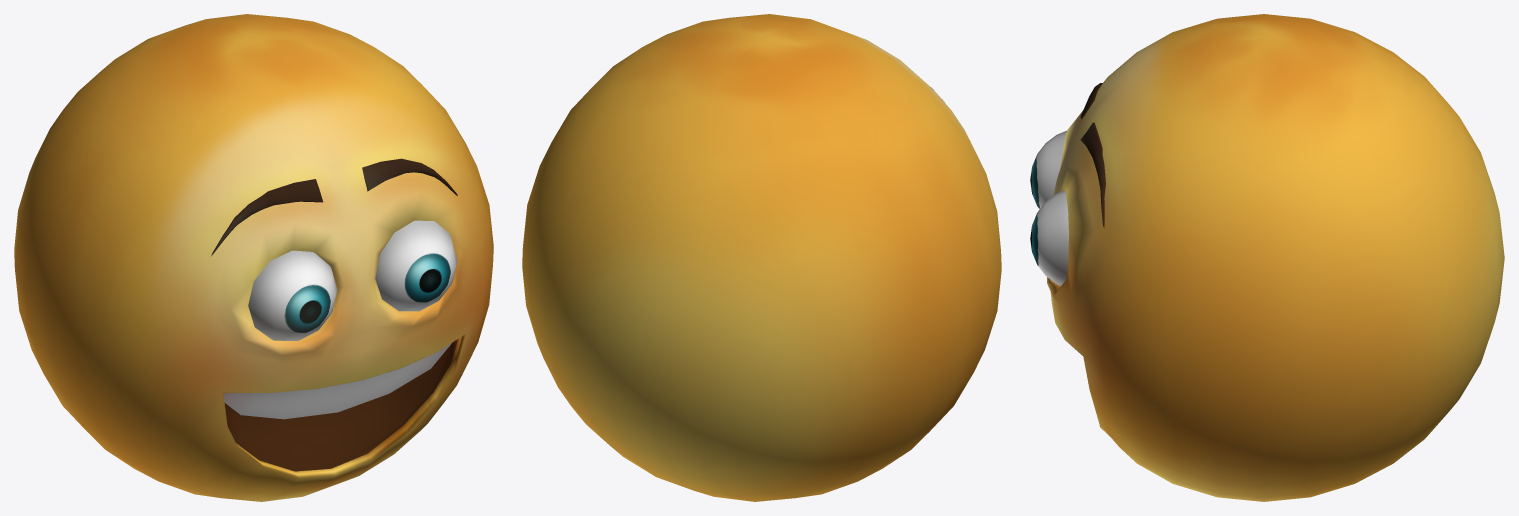
File: Emoji_Grining_v001.fbx
The picture shows the model from 3 angles, left to right: view 1: azimuth 30°, elevation 25°; view 2: azimuth 150°, elevation 25°; view 3: azimuth 270°, elevation 25°; orthographic projection.
Parts seen in each view (by area): view 1: Emoji_Grining_Head, Emoji_Grining_R_Eye, Emoji_Grining_L_Eye, Emoji_Grining_Teeth, Emoji_Grining_Eyebrow; view 2: Emoji_Grining_Head; view 3: Emoji_Grining_Head, Emoji_Grining_L_Eye, Emoji_Grining_R_Eye, Emoji_Grining_Eyebrow.
Boxes of the visible parts, bbox=[...] form: Emoji_Grining_Head: bbox=[14, 14, 493, 501]; Emoji_Grining_R_Eye: bbox=[248, 250, 337, 340]; Emoji_Grining_L_Eye: bbox=[375, 220, 457, 311]; Emoji_Grining_Teeth: bbox=[223, 343, 451, 419]; Emoji_Grining_Eyebrow: bbox=[211, 158, 457, 255]; Emoji_Grining_Head: bbox=[522, 14, 1001, 501]; Emoji_Grining_Head: bbox=[1047, 14, 1504, 501]; Emoji_Grining_L_Eye: bbox=[1030, 190, 1068, 285]; Emoji_Grining_R_Eye: bbox=[1030, 130, 1067, 209]; Emoji_Grining_Eyebrow: bbox=[1080, 83, 1105, 227].
Bounding box in the file's own units: 3.49 × 3.55 × 3.44.
1 material, 1 textured.
